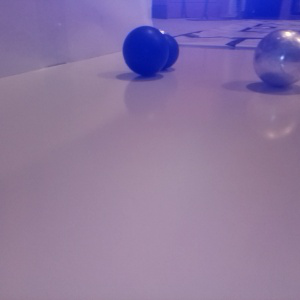alive_ball: (252, 29, 300, 88)
dead_ball: (122, 26, 169, 77), (151, 33, 178, 70)
